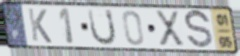0: (121, 9, 145, 48)
1: (58, 6, 74, 46)
K: (26, 7, 53, 45)
S: (184, 9, 214, 51)
U: (86, 8, 118, 47)
X: (154, 10, 186, 49)
